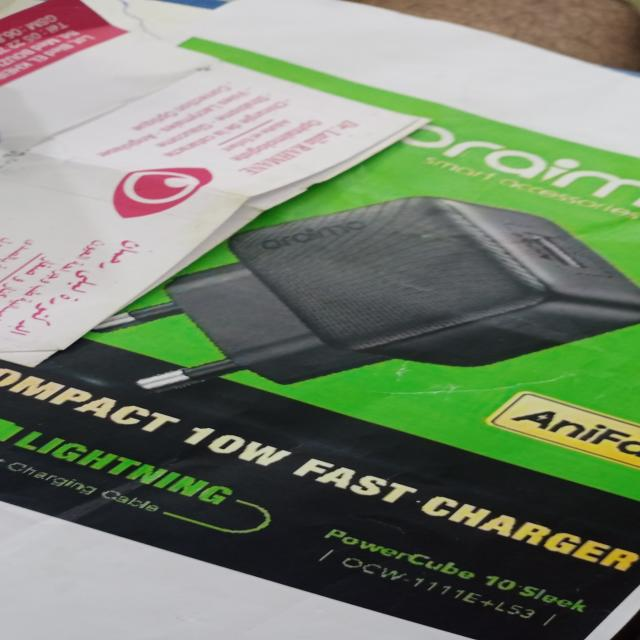PowerCube 10 Sleek OCW-1111ExL53: (297, 519, 622, 640)
